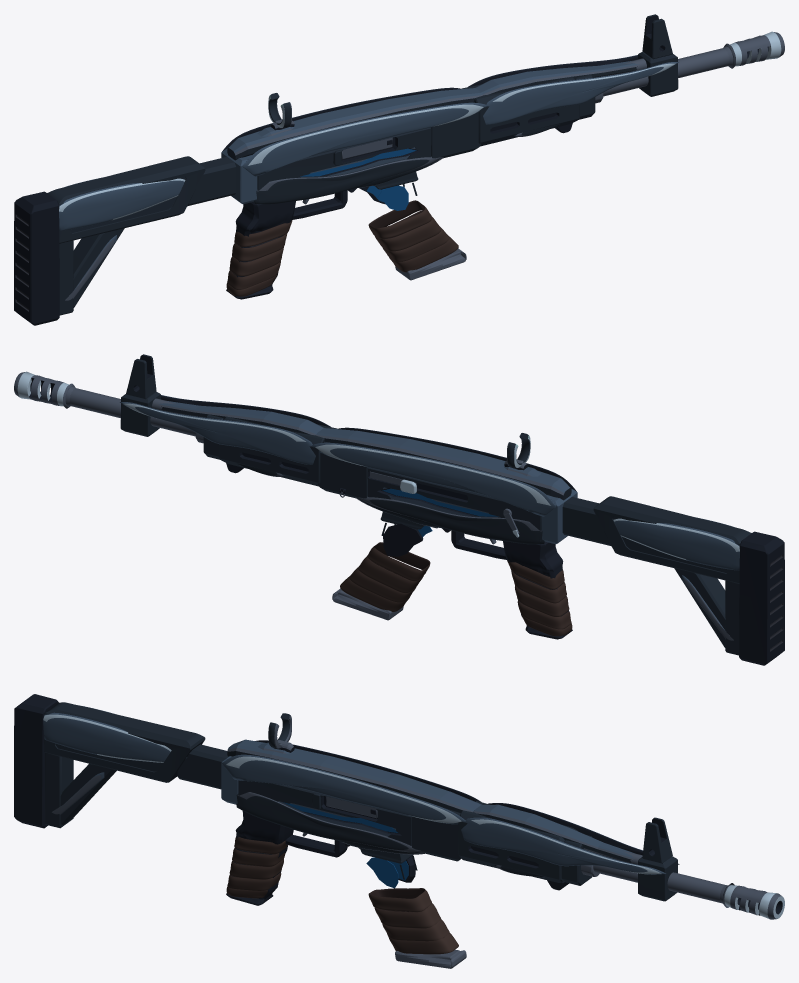
File: Vandal_StormShadow_v18.glb
The picture shows the model from 3 angles, top to bottom: view 1: azimuth 30°, elevation 25°; view 2: azimuth 150°, elevation 25°; view 3: azimuth 330°, elevation 25°; orthographic projection.
Parts seen in each view (by area): view 1: Stock_FittedChassis.001, Receiver_IndigoForging.001, Rear_SilverPlate_Far.001, Receiver_TransferCover.001, Fore_SilverPlate_Far.001, Stock_CeramicCheek_Far.001, Receiver_LowerCeramicShell_Far.001, Shroud_OctagonalForging.001, Grip_ShapedFactoryTang.001, Sight_StockAxisFront.001, Shroud_UpperSeat.001, Barrel_StockFitStem.001 (+15 smaller); view 2: Stock_FittedChassis.001, Receiver_IndigoForging.001, Rear_SilverPlate_Player.001, Receiver_TransferCover.001, Fore_SilverPlate_Player.001, Stock_CeramicCheek_Player.001, Receiver_LowerCeramicShell_Player.001, Shroud_OctagonalForging.001, Grip_ShapedFactoryTang.001, Sight_StockAxisFront.001, Shroud_UpperSeat.001, Mag_ContinuousCurvedShell.001 (+14 smaller); view 3: Stock_FittedChassis.001, Receiver_IndigoForging.001, Rear_SilverPlate_Far.001, Receiver_TransferCover.001, Fore_SilverPlate_Far.001, Stock_CeramicCheek_Far.001, Shroud_OctagonalForging.001, Receiver_LowerCeramicShell_Far.001, Grip_ShapedFactoryTang.001, Sight_StockAxisFront.001, Shroud_UpperSeat.001, Barrel_StockFitStem.001 (+16 smaller).
Part boxes in pixels (x1=…): Stock_FittedChassis.001: x1=14, y1=156, x2=236, y2=325; Receiver_IndigoForging.001: x1=221, y1=102, x2=481, y2=204; Rear_SilverPlate_Far.001: x1=242, y1=102, x2=486, y2=176; Receiver_TransferCover.001: x1=227, y1=88, x2=482, y2=160; Fore_SilverPlate_Far.001: x1=483, y1=62, x2=678, y2=124; Stock_CeramicCheek_Far.001: x1=59, y1=178, x2=185, y2=230; Receiver_LowerCeramicShell_Far.001: x1=254, y1=156, x2=441, y2=204; Shroud_OctagonalForging.001: x1=462, y1=68, x2=603, y2=146; Grip_ShapedFactoryTang.001: x1=226, y1=190, x2=347, y2=299; Sight_StockAxisFront.001: x1=638, y1=14, x2=678, y2=96; Shroud_UpperSeat.001: x1=475, y1=61, x2=639, y2=95; Barrel_StockFitStem.001: x1=599, y1=43, x2=735, y2=96; Stock_FittedChassis.001: x1=562, y1=496, x2=784, y2=665; Receiver_IndigoForging.001: x1=317, y1=442, x2=577, y2=544; Rear_SilverPlate_Player.001: x1=312, y1=442, x2=556, y2=516; Receiver_TransferCover.001: x1=316, y1=428, x2=571, y2=500; Fore_SilverPlate_Player.001: x1=120, y1=402, x2=315, y2=464; Stock_CeramicCheek_Player.001: x1=613, y1=518, x2=739, y2=570; Receiver_LowerCeramicShell_Player.001: x1=357, y1=496, x2=544, y2=544; Shroud_OctagonalForging.001: x1=195, y1=408, x2=336, y2=486; Grip_ShapedFactoryTang.001: x1=451, y1=530, x2=572, y2=639; Sight_StockAxisFront.001: x1=120, y1=354, x2=160, y2=436; Shroud_UpperSeat.001: x1=158, y1=401, x2=323, y2=435; Mag_ContinuousCurvedShell.001: x1=332, y1=522, x2=423, y2=620; Stock_FittedChassis.001: x1=14, y1=694, x2=227, y2=828; Receiver_IndigoForging.001: x1=221, y1=756, x2=461, y2=863; Rear_SilverPlate_Far.001: x1=222, y1=754, x2=465, y2=824; Receiver_TransferCover.001: x1=227, y1=739, x2=482, y2=813; Fore_SilverPlate_Far.001: x1=461, y1=817, x2=666, y2=874; Stock_CeramicCheek_Far.001: x1=43, y1=712, x2=186, y2=762; Shroud_OctagonalForging.001: x1=458, y1=801, x2=599, y2=890; Receiver_LowerCeramicShell_Far.001: x1=236, y1=792, x2=422, y2=852; Grip_ShapedFactoryTang.001: x1=226, y1=811, x2=347, y2=905; Sight_StockAxisFront.001: x1=638, y1=817, x2=677, y2=901; Shroud_UpperSeat.001: x1=474, y1=804, x2=634, y2=862; Barrel_StockFitStem.001: x1=584, y1=848, x2=734, y2=907.
Bounding box in the file's own units: 3.9 × 1.02 × 0.2376.
